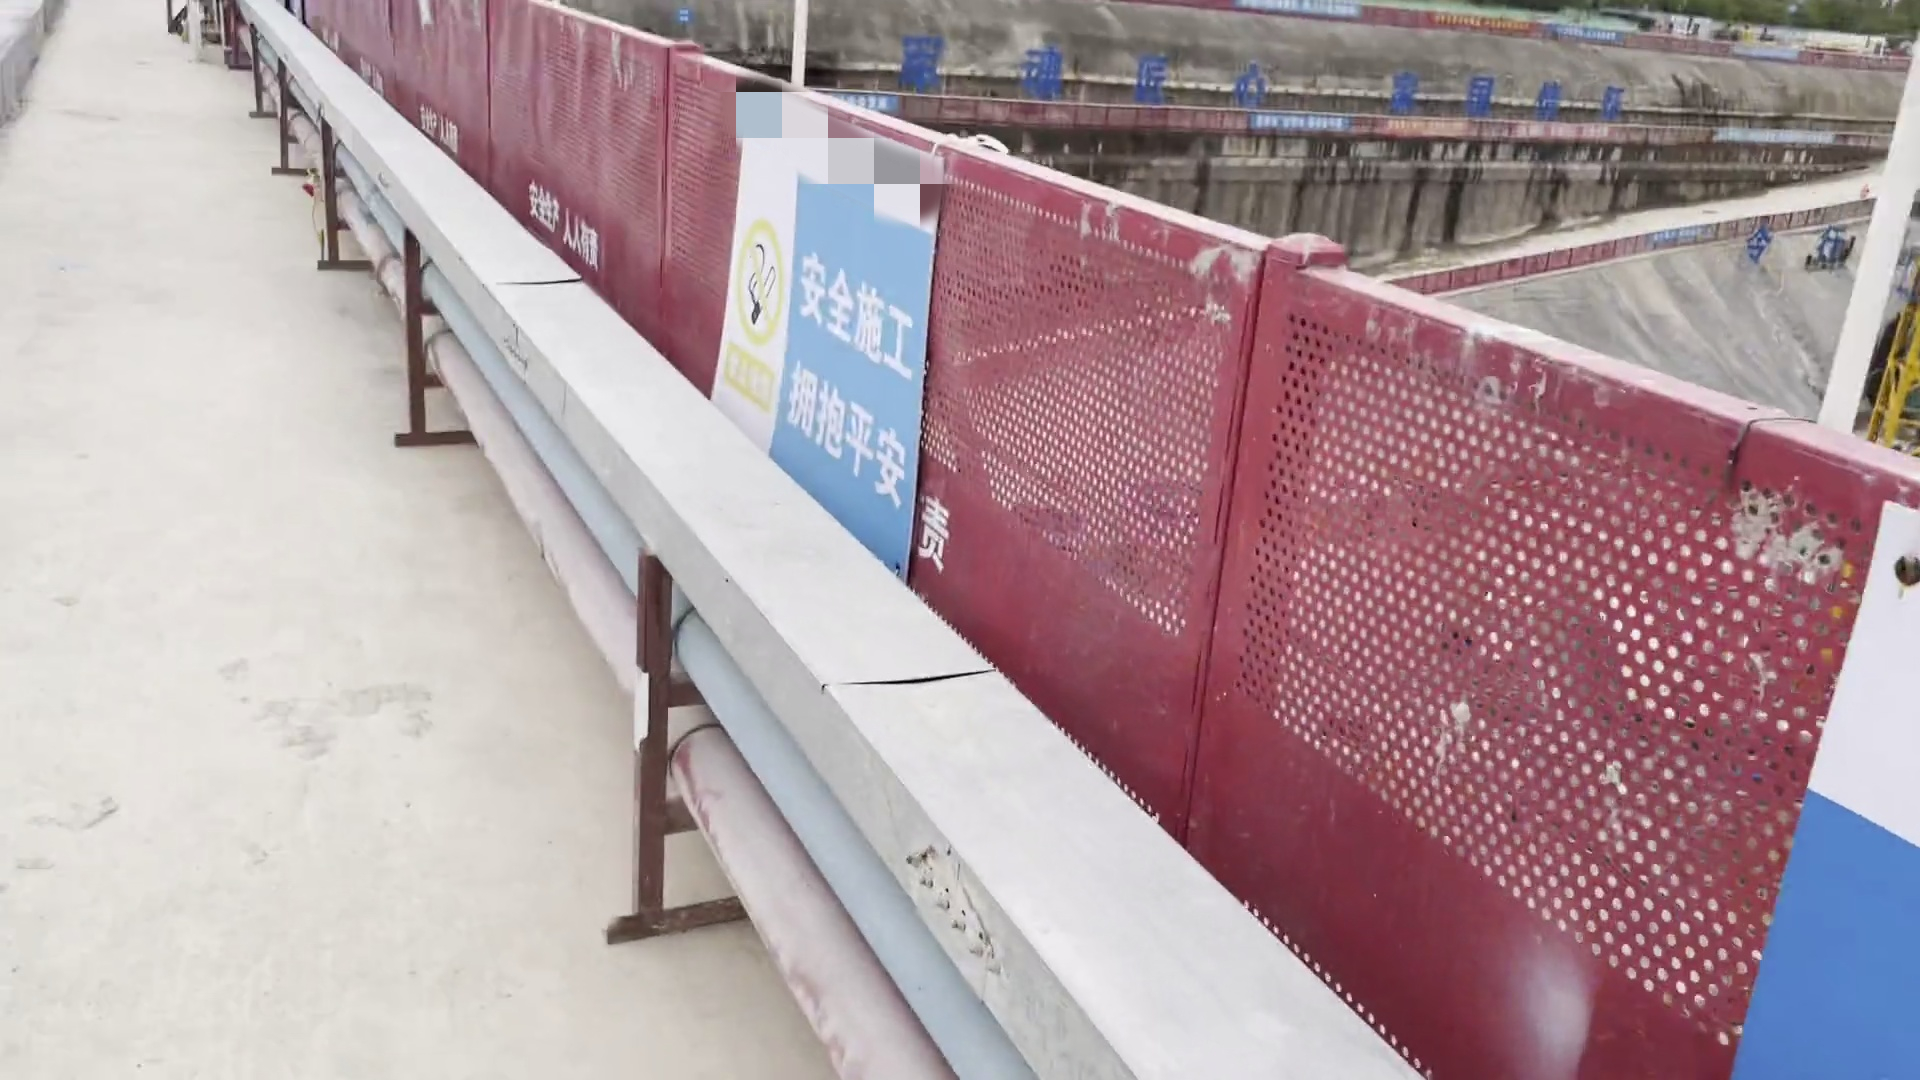fence: (1208, 225, 1920, 1080), (661, 44, 1222, 905), (291, 1, 669, 357)
slogan: (676, 80, 973, 593), (1495, 112, 1634, 169), (1702, 124, 1849, 160), (1241, 108, 1353, 152), (825, 65, 914, 116), (1375, 111, 1477, 154), (1528, 16, 1642, 54), (1244, 1, 1379, 26)
